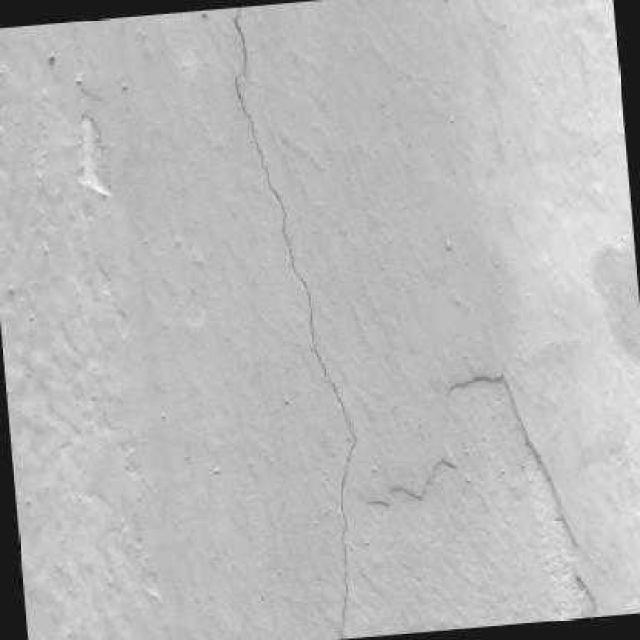D00: (230, 5, 358, 640)
